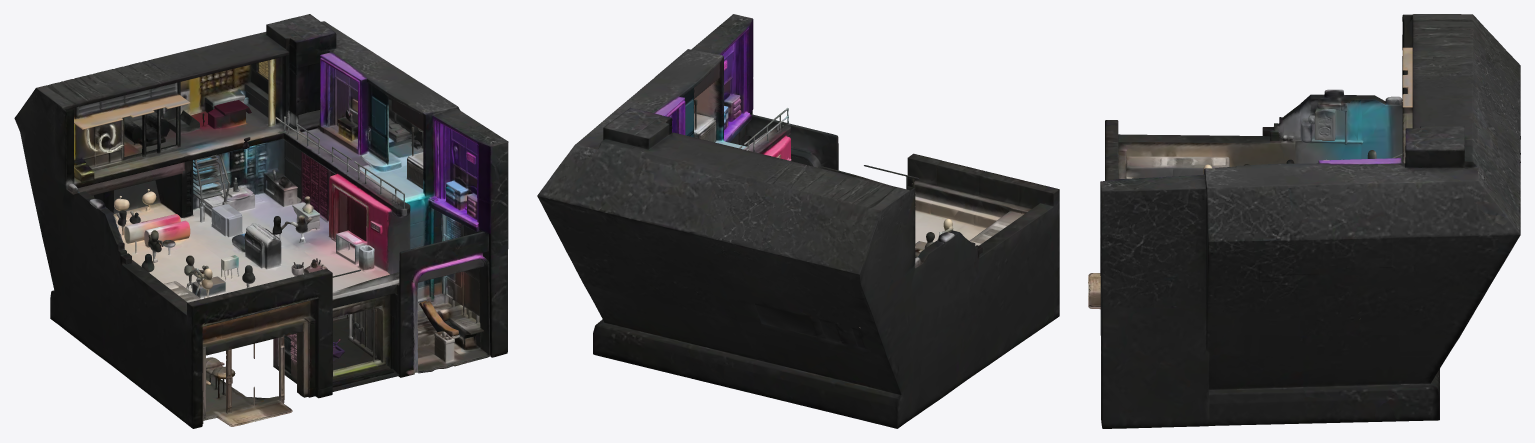
File: modern_bank_interior_3d_model.glb
3 views of the same model, side by side, from view 1: azimuth 30°, elevation 25°; view 2: azimuth 150°, elevation 25°; view 3: azimuth 270°, elevation 25° (orthographic). The views are drawn at different scales.
Visible parts, largest first — view 1: tripo_node_f44e9b3c-4075-4d04-b53b-d6c1f2e37bd2; view 2: tripo_node_f44e9b3c-4075-4d04-b53b-d6c1f2e37bd2; view 3: tripo_node_f44e9b3c-4075-4d04-b53b-d6c1f2e37bd2.
Boxes of the visible parts, <box> form: tripo_node_f44e9b3c-4075-4d04-b53b-d6c1f2e37bd2: <box>14,14,508,428</box>; tripo_node_f44e9b3c-4075-4d04-b53b-d6c1f2e37bd2: <box>537,14,1059,428</box>; tripo_node_f44e9b3c-4075-4d04-b53b-d6c1f2e37bd2: <box>1088,14,1520,428</box>.
Bounding box in the file's own units: 0.9334 × 0.6419 × 0.9441.
Materials: 1 (1 with a texture image).
